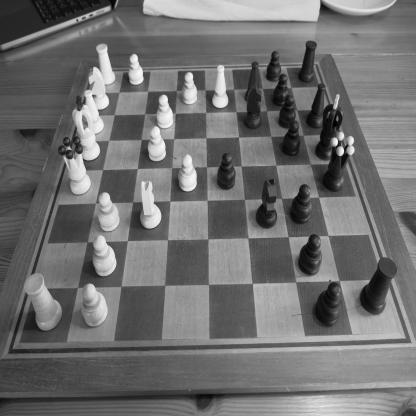black-bishop: (306, 80, 329, 130), (243, 60, 262, 104)
black-king: (314, 93, 346, 163)
black-knight: (254, 175, 282, 233), (242, 88, 264, 132)
black-pawn: (310, 280, 345, 330), (297, 233, 324, 279), (289, 181, 313, 228), (214, 150, 238, 190), (277, 122, 302, 158), (276, 93, 299, 127), (264, 49, 284, 82), (272, 72, 291, 104)
black-queen: (322, 130, 356, 194)
black-rook: (358, 254, 398, 313), (298, 39, 318, 83)
white-bishop: (79, 90, 105, 136), (207, 63, 232, 110)
white-king: (68, 92, 102, 164)
white-knight: (136, 177, 164, 232), (86, 64, 110, 112)
white-pawn: (81, 283, 110, 331), (90, 234, 118, 280), (96, 189, 122, 233), (176, 154, 202, 193), (144, 126, 167, 164), (125, 51, 146, 87), (154, 93, 174, 130), (180, 70, 199, 106)
white-queen: (57, 135, 92, 196)
white-rook: (22, 271, 63, 334), (96, 42, 116, 86)
